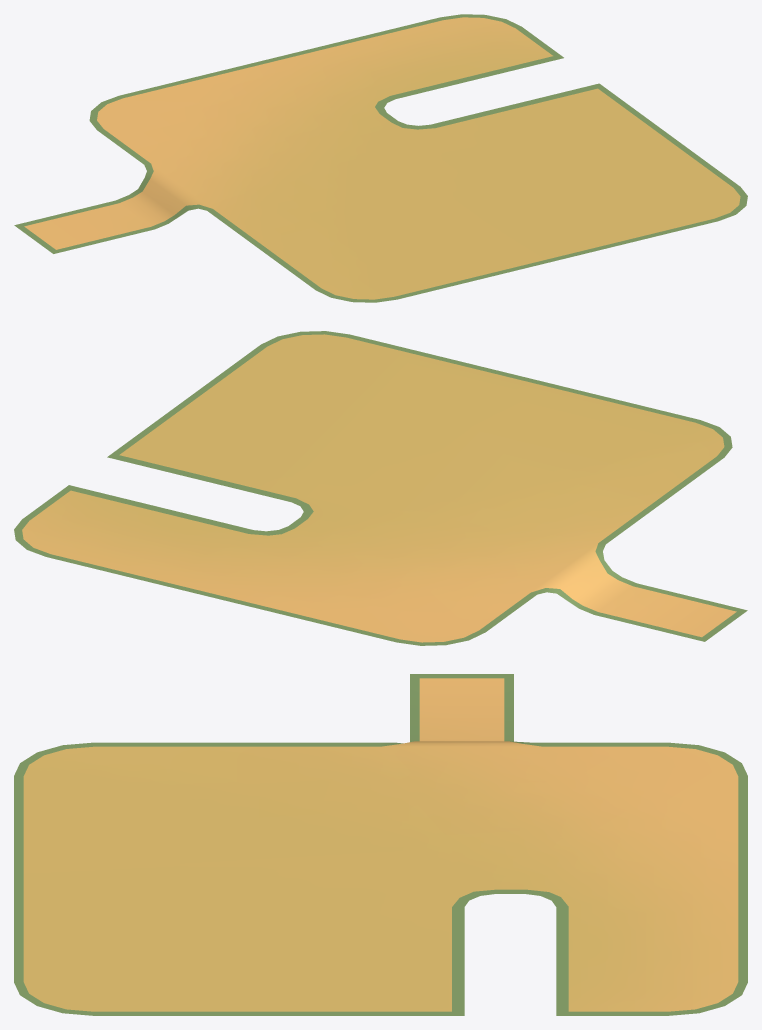
File: Road Cave.fbx
3 views of the same model, one above another, from view 1: azimuth 30°, elevation 25°; view 2: azimuth 150°, elevation 25°; view 3: azimuth 270°, elevation 25° (orthographic). The views are drawn at different scales.
Parts seen in each view (by area): view 1: Plane.046; view 2: Plane.046; view 3: Plane.046.
Boxes of the visible parts, x1,y1,x2,y2 form: Plane.046: (14, 14, 747, 302); Plane.046: (14, 331, 747, 645); Plane.046: (14, 674, 747, 1015).
Size of the model in its own units: 7.12 by 0.2073 by 6.06.
